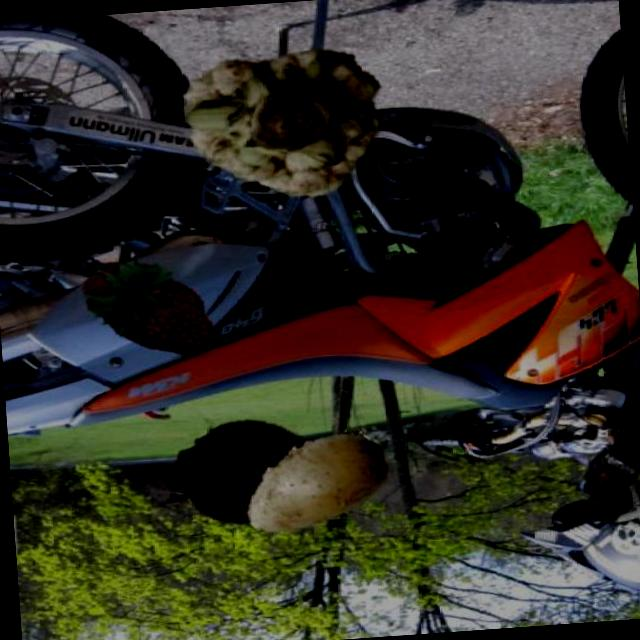Strawberry: (70, 240, 236, 371)
